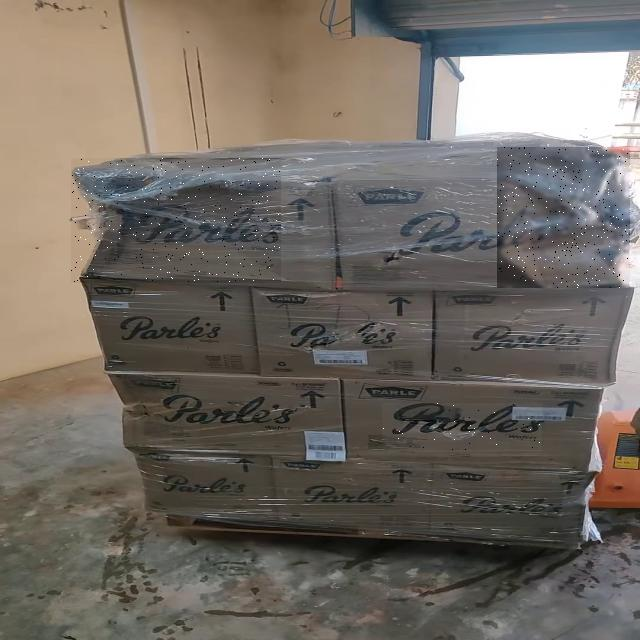squeeze: (71, 159, 280, 282), (497, 147, 628, 288)
tear: (382, 403, 541, 452)
